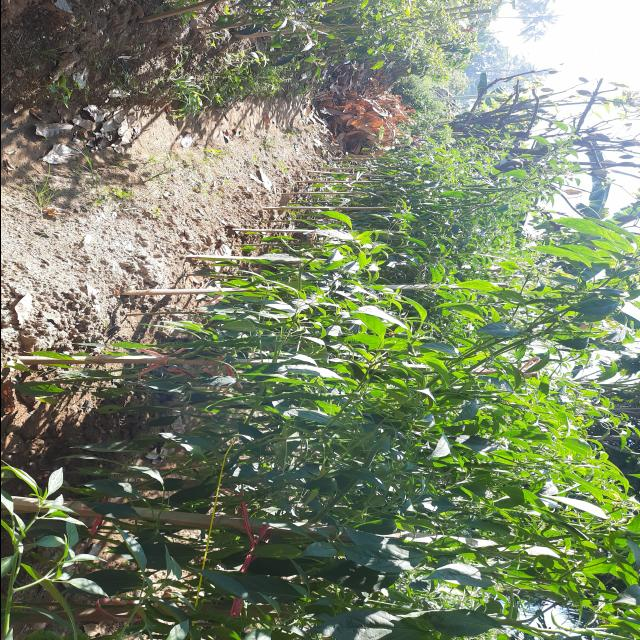sehat: (400, 598, 512, 636), (335, 536, 425, 570), (197, 574, 298, 604)
